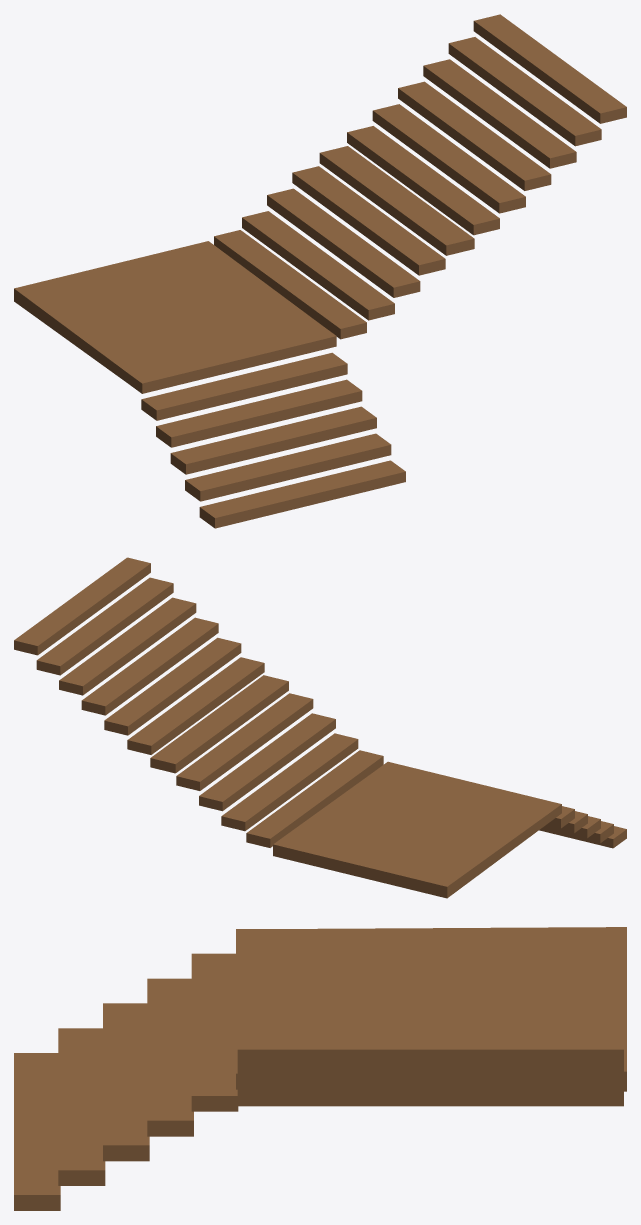
File: merdivenler.fbx
3 views of the same model, one above another, from view 1: azimuth 30°, elevation 25°; view 2: azimuth 150°, elevation 25°; view 3: azimuth 270°, elevation 25° (orthographic). The views are drawn at different scales.
Visible parts, largest first — view 1: Cube.005, Cube.101, Cube.110, Cube.111, Cube.112, Cube.108, Cube.109, Cube.076, Cube.105, Cube.106, Cube.107, Cube.100 (+5 smaller); view 2: Cube.005, Cube.101, Cube.105, Cube.044, Cube.103, Cube.104, Cube.106, Cube.102, Cube.100, Cube.076, Cube.107, Cube.011 (+1 smaller); view 3: Cube.005, Cube.107, Cube.109, Cube.110, Cube.108, Cube.111, Cube.112, Cube.044, Cube.103, Cube.104, Cube.105, Cube.106 (+3 smaller).
Part boxes in pixels (x1,y1,x2,y2): Cube.005: [14, 241, 336, 393]; Cube.101: [319, 146, 474, 255]; Cube.110: [170, 406, 376, 474]; Cube.111: [185, 433, 391, 501]; Cube.112: [199, 460, 405, 528]; Cube.108: [141, 352, 347, 420]; Cube.109: [156, 379, 362, 447]; Cube.076: [267, 188, 420, 297]; Cube.105: [423, 59, 576, 168]; Cube.106: [448, 37, 601, 146]; Cube.107: [473, 14, 626, 123]; Cube.100: [292, 166, 445, 275]; Cube.005: [273, 761, 561, 898]; Cube.101: [150, 675, 288, 773]; Cube.105: [59, 597, 196, 695]; Cube.044: [221, 733, 358, 831]; Cube.103: [104, 637, 241, 735]; Cube.104: [81, 617, 218, 715]; Cube.106: [36, 577, 173, 675]; Cube.102: [127, 657, 264, 754]; Cube.100: [176, 693, 313, 790]; Cube.076: [199, 713, 335, 811]; Cube.107: [14, 557, 150, 655]; Cube.011: [246, 750, 383, 847]; Cube.005: [236, 927, 626, 1091]; Cube.107: [237, 1030, 623, 1065]; Cube.109: [147, 978, 193, 1136]; Cube.110: [103, 1003, 149, 1161]; Cube.108: [191, 953, 238, 1111]; Cube.111: [58, 1028, 105, 1185]; Cube.112: [14, 1053, 60, 1210]; Cube.044: [237, 1100, 623, 1106]; Cube.103: [237, 1083, 623, 1089]; Cube.104: [237, 1077, 623, 1083]; Cube.105: [237, 1071, 623, 1077]; Cube.106: [237, 1065, 623, 1071].
Bounding box in the file's own units: 2806 × 1378 × 2013.
Materials: 1 (1 with a texture image).
